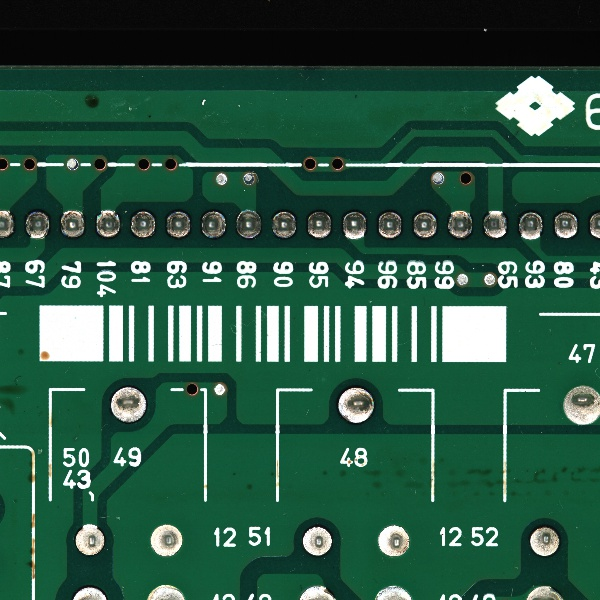Circle: (104, 382, 152, 426), (335, 384, 380, 428), (372, 522, 416, 558), (146, 520, 185, 558), (526, 522, 563, 560), (337, 204, 368, 245), (481, 203, 509, 246), (549, 208, 583, 243), (232, 204, 263, 242), (446, 205, 476, 244), (410, 204, 439, 244), (301, 524, 335, 558), (267, 206, 300, 241), (127, 206, 157, 244), (72, 525, 105, 558), (375, 208, 406, 243), (198, 208, 227, 243), (94, 206, 122, 241), (57, 207, 88, 238), (163, 208, 193, 240), (304, 208, 333, 241), (517, 208, 543, 244), (23, 208, 51, 241)
